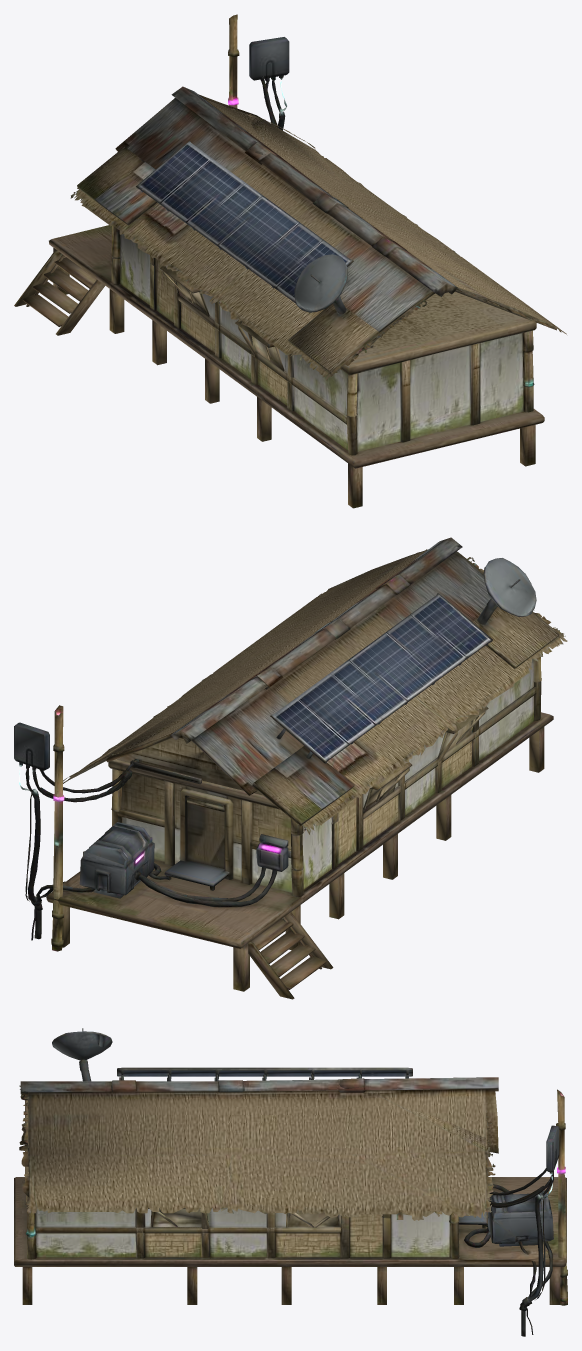
Rendered from highland_longhouse.glb.
The picture shows the model from 3 angles, top to bottom: view 1: azimuth 30°, elevation 25°; view 2: azimuth 150°, elevation 25°; view 3: azimuth 270°, elevation 25°; orthographic projection. The views are drawn at different scales.
Visible parts, largest first — view 1: Body; view 2: Body; view 3: Body.
Part boxes in pixels (x1,y1,x2,y2): Body: [14, 14, 566, 508]; Body: [14, 537, 567, 999]; Body: [14, 1028, 567, 1336].
Size of the model in its own units: 14 by 12.3 by 27.2.
Materials: 2 (2 with a texture image).
